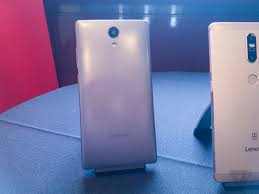lenovo: (74, 17, 159, 174)
